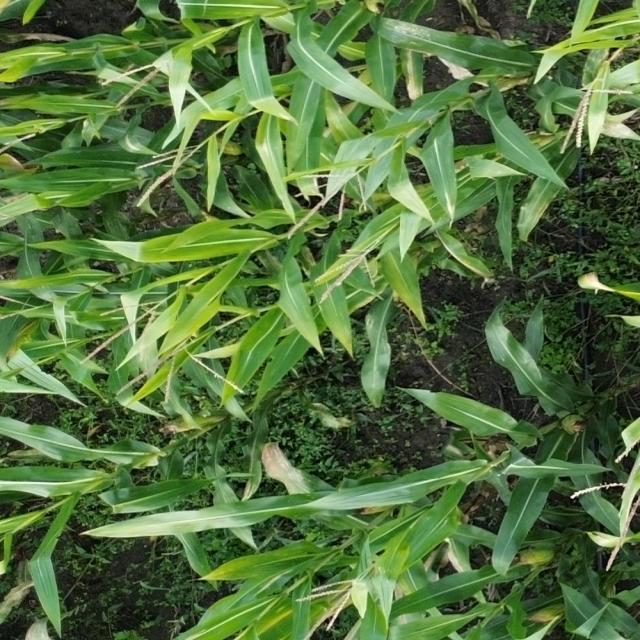gray-leaf-spot: (260, 450, 306, 487)
northern-leaf-blight: (116, 132, 142, 152)
southern-leaf-blight: (385, 19, 432, 46)
